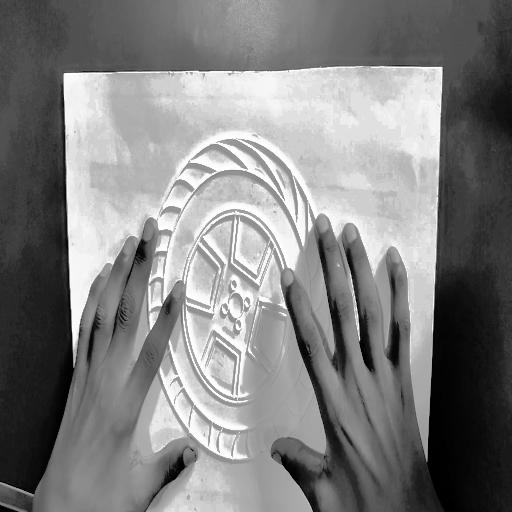tire: (136, 128, 343, 470)
top_left: (62, 69, 67, 83)
top_right: (437, 56, 448, 76)
